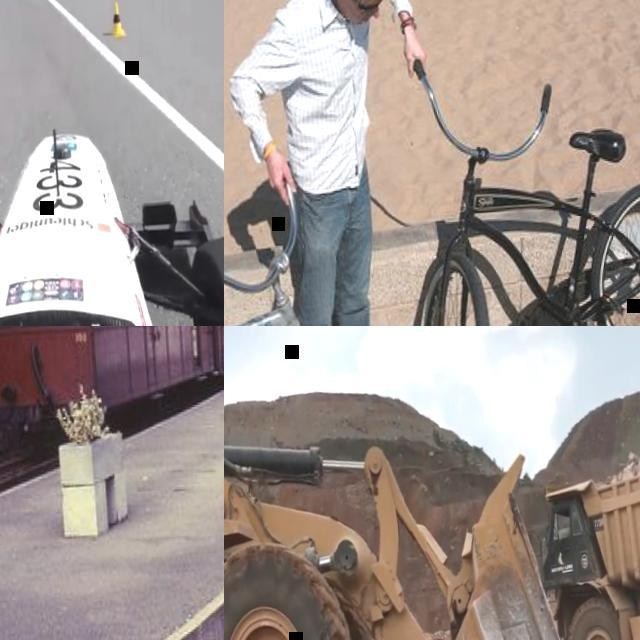vest: (280, 0, 379, 193)
